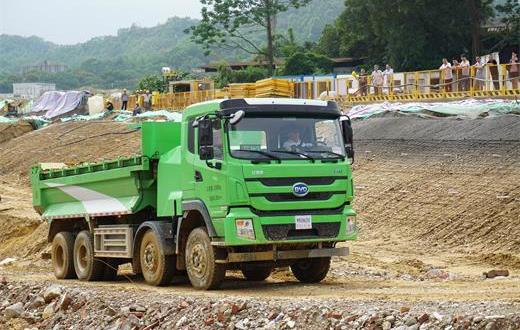truck: (23, 78, 354, 291)
